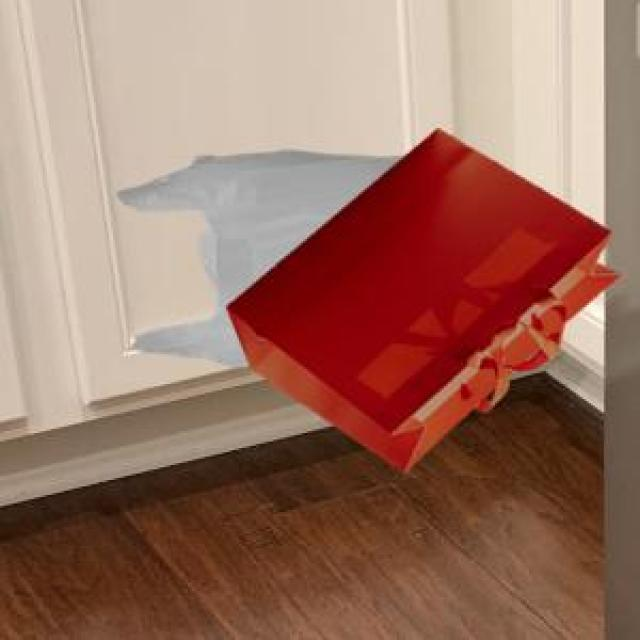paper: (222, 126, 617, 467)
